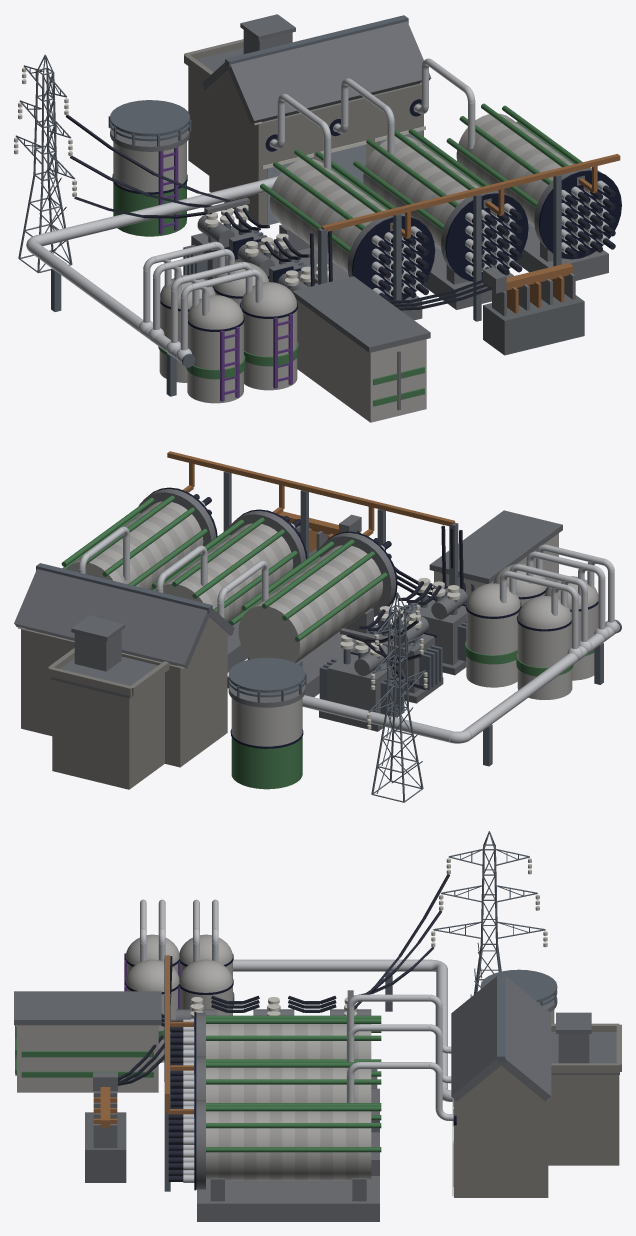
Rendered from electrolyser_lvl3.glb.
3 views of the same model, one above another, from view 1: azimuth 30°, elevation 25°; view 2: azimuth 150°, elevation 25°; view 3: azimuth 270°, elevation 25° (orthographic). The views are drawn at different scales.
Visible parts, largest first — view 1: electrolyser; view 2: electrolyser; view 3: electrolyser.
Boxes of the visible parts, x1,y1,x2,y2 form: electrolyser: (14,14,621,422); electrolyser: (14,451,621,802); electrolyser: (14,831,621,1221).
Bounding box in the file's own units: 0.8577 × 0.3608 × 1.
